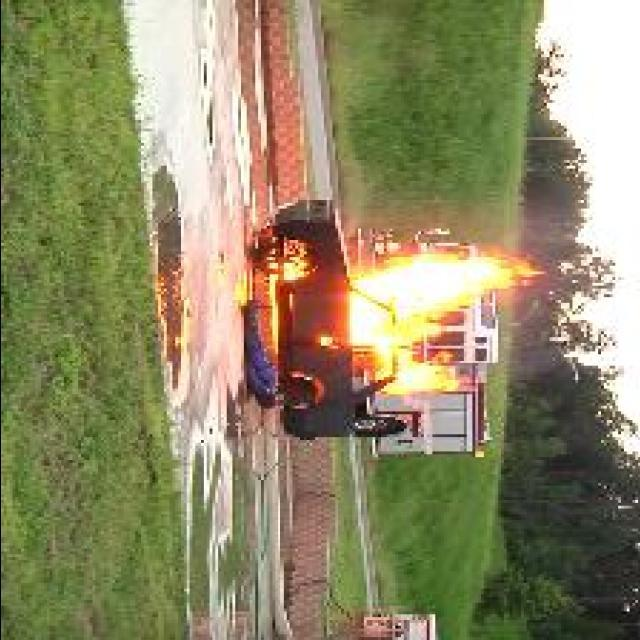Fire: (348, 250, 542, 393)
